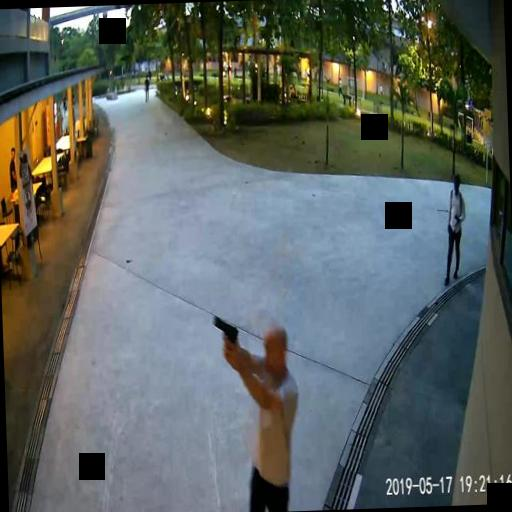Handgun: (210, 314, 238, 358)
